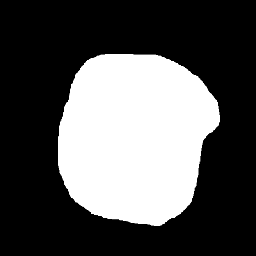mass: (63, 48, 218, 225)
